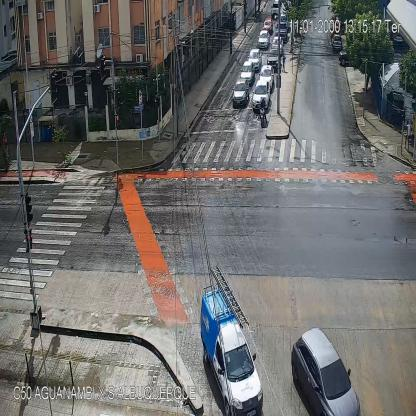car: (201, 290, 264, 414), (292, 328, 360, 416), (252, 80, 270, 110), (232, 79, 249, 105), (259, 65, 273, 89), (240, 62, 255, 82), (248, 48, 261, 71), (267, 48, 278, 71), (275, 22, 287, 41), (258, 30, 270, 47), (271, 36, 283, 53), (332, 34, 341, 53), (263, 18, 273, 34), (280, 14, 290, 29), (271, 3, 279, 16)
motorbike: (260, 97, 267, 126)
person: (281, 52, 286, 72), (228, 31, 231, 46)
